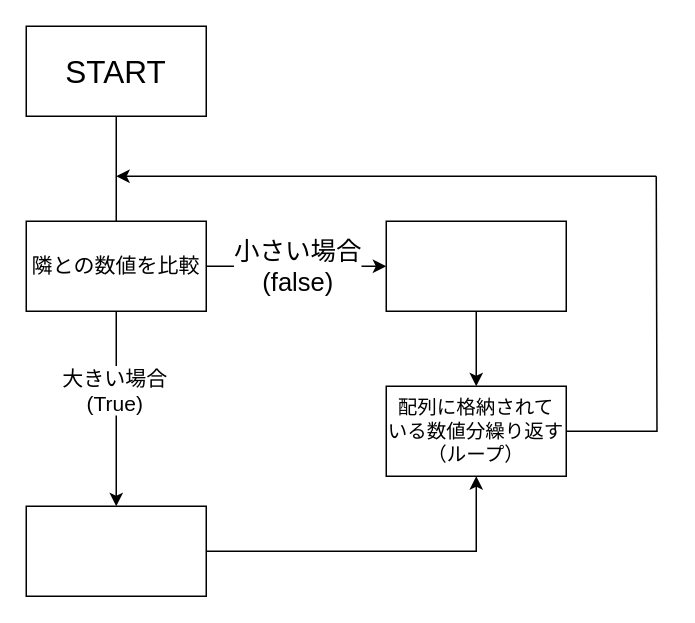
Image size: 695x623. Some labels were removed from this diagram. Here are the shapes that lost their labels. From the top down, the centre of each, then its label:
At point 475,265: "数値はそのままにする".
At point 115,550: "数値を交換".
